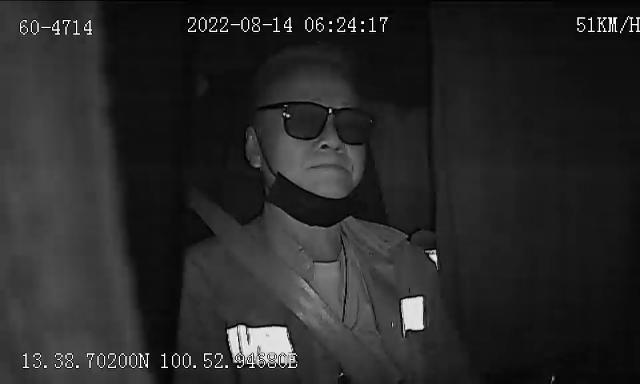Seatbelt: (191, 186, 395, 384)
